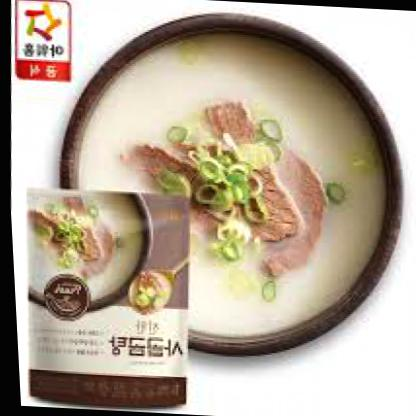beef-bone soup: (168, 22, 399, 370)
